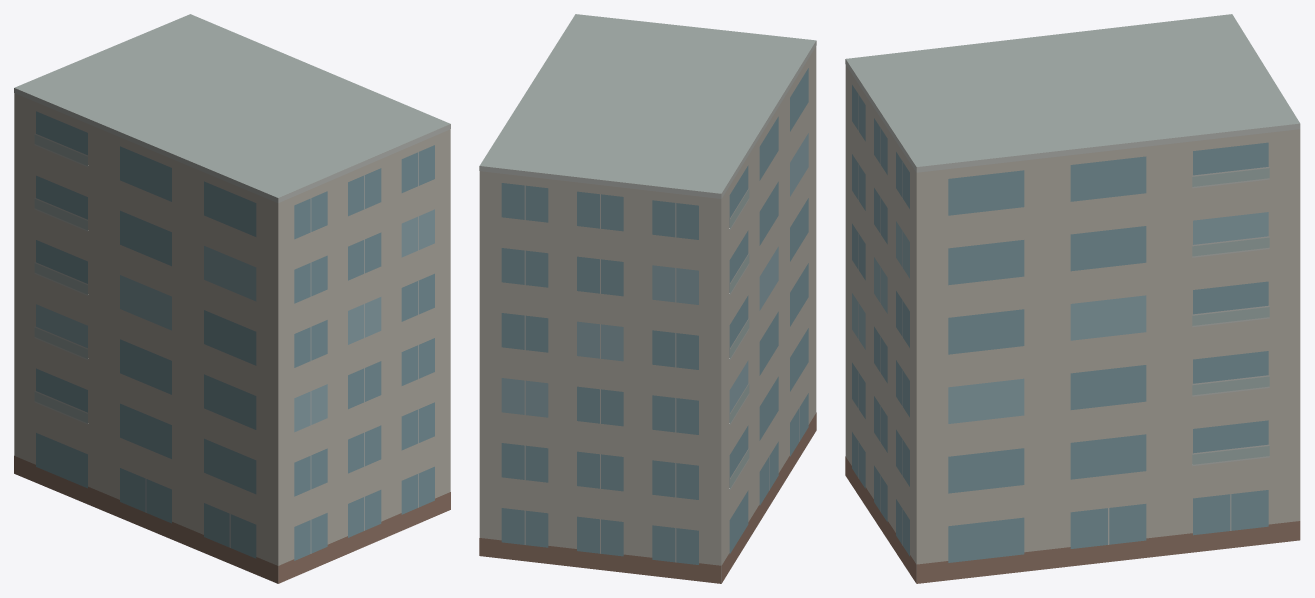
The model's file is survey-upis-32752034.glb.
The picture shows the model from 3 angles, left to right: view 1: azimuth 30°, elevation 25°; view 2: azimuth 150°, elevation 25°; view 3: azimuth 270°, elevation 25°; orthographic projection. The views are drawn at different scales.
Parts seen in each view (by area): view 1: survey-upis-32752034.tmp; view 2: survey-upis-32752034.tmp; view 3: survey-upis-32752034.tmp.
Part boxes in pixels (bbox=[...]): survey-upis-32752034.tmp: bbox=[14, 14, 450, 583]; survey-upis-32752034.tmp: bbox=[479, 14, 816, 583]; survey-upis-32752034.tmp: bbox=[845, 14, 1300, 583].
Size of the model in its own units: 14.35 by 18.2 by 18.01.
